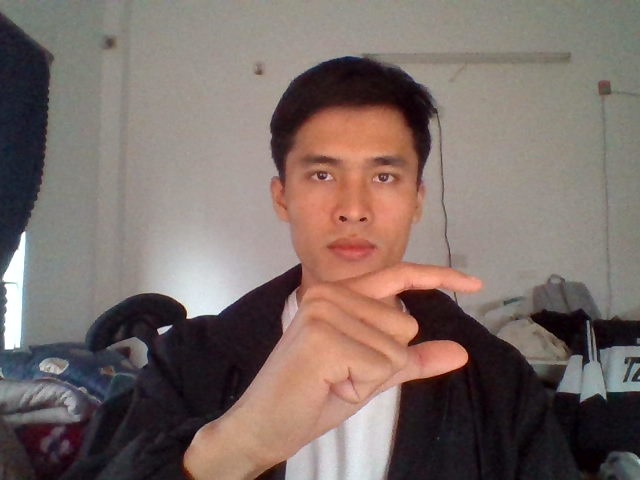No: (245, 257, 489, 412)
